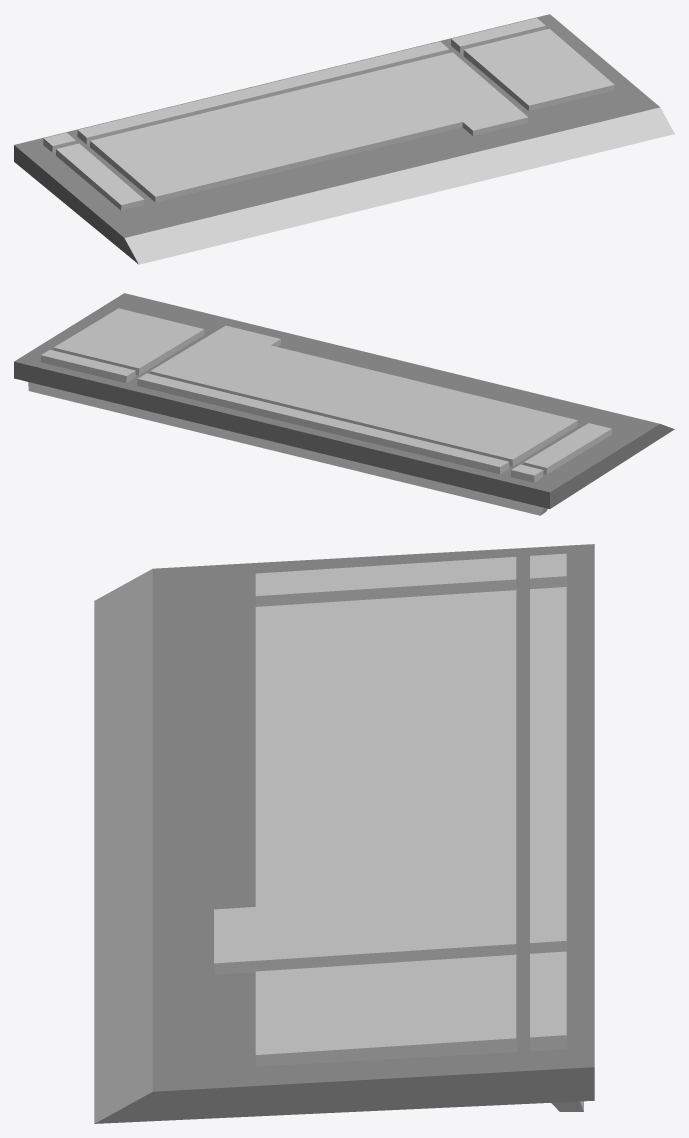
Rendered from Keyboard.fbx.
3 views of the same model, one above another, from view 1: azimuth 30°, elevation 25°; view 2: azimuth 150°, elevation 25°; view 3: azimuth 270°, elevation 25° (orthographic). The views are drawn at different scales.
Visible parts, largest first — view 1: Keyboard; view 2: Keyboard; view 3: Keyboard.
Part boxes in pixels (left/top/right/bottom): Keyboard: left=14, top=14, right=674, bottom=264; Keyboard: left=14, top=293, right=674, bottom=515; Keyboard: left=94, top=544, right=594, bottom=1123.
Size of the model in its own units: 50.41 by 3.11 by 20.37.
